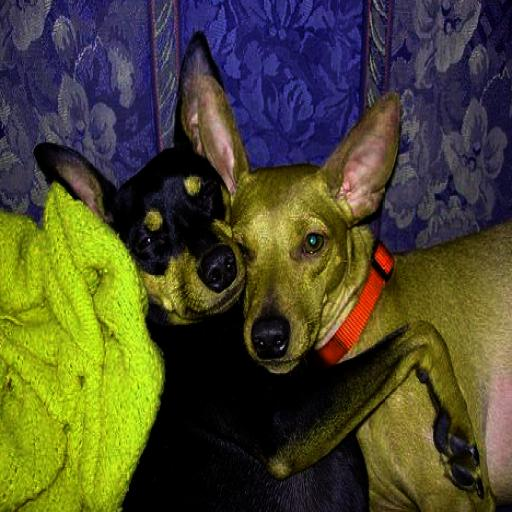dog_face: (188, 46, 410, 378), (34, 26, 244, 327)
